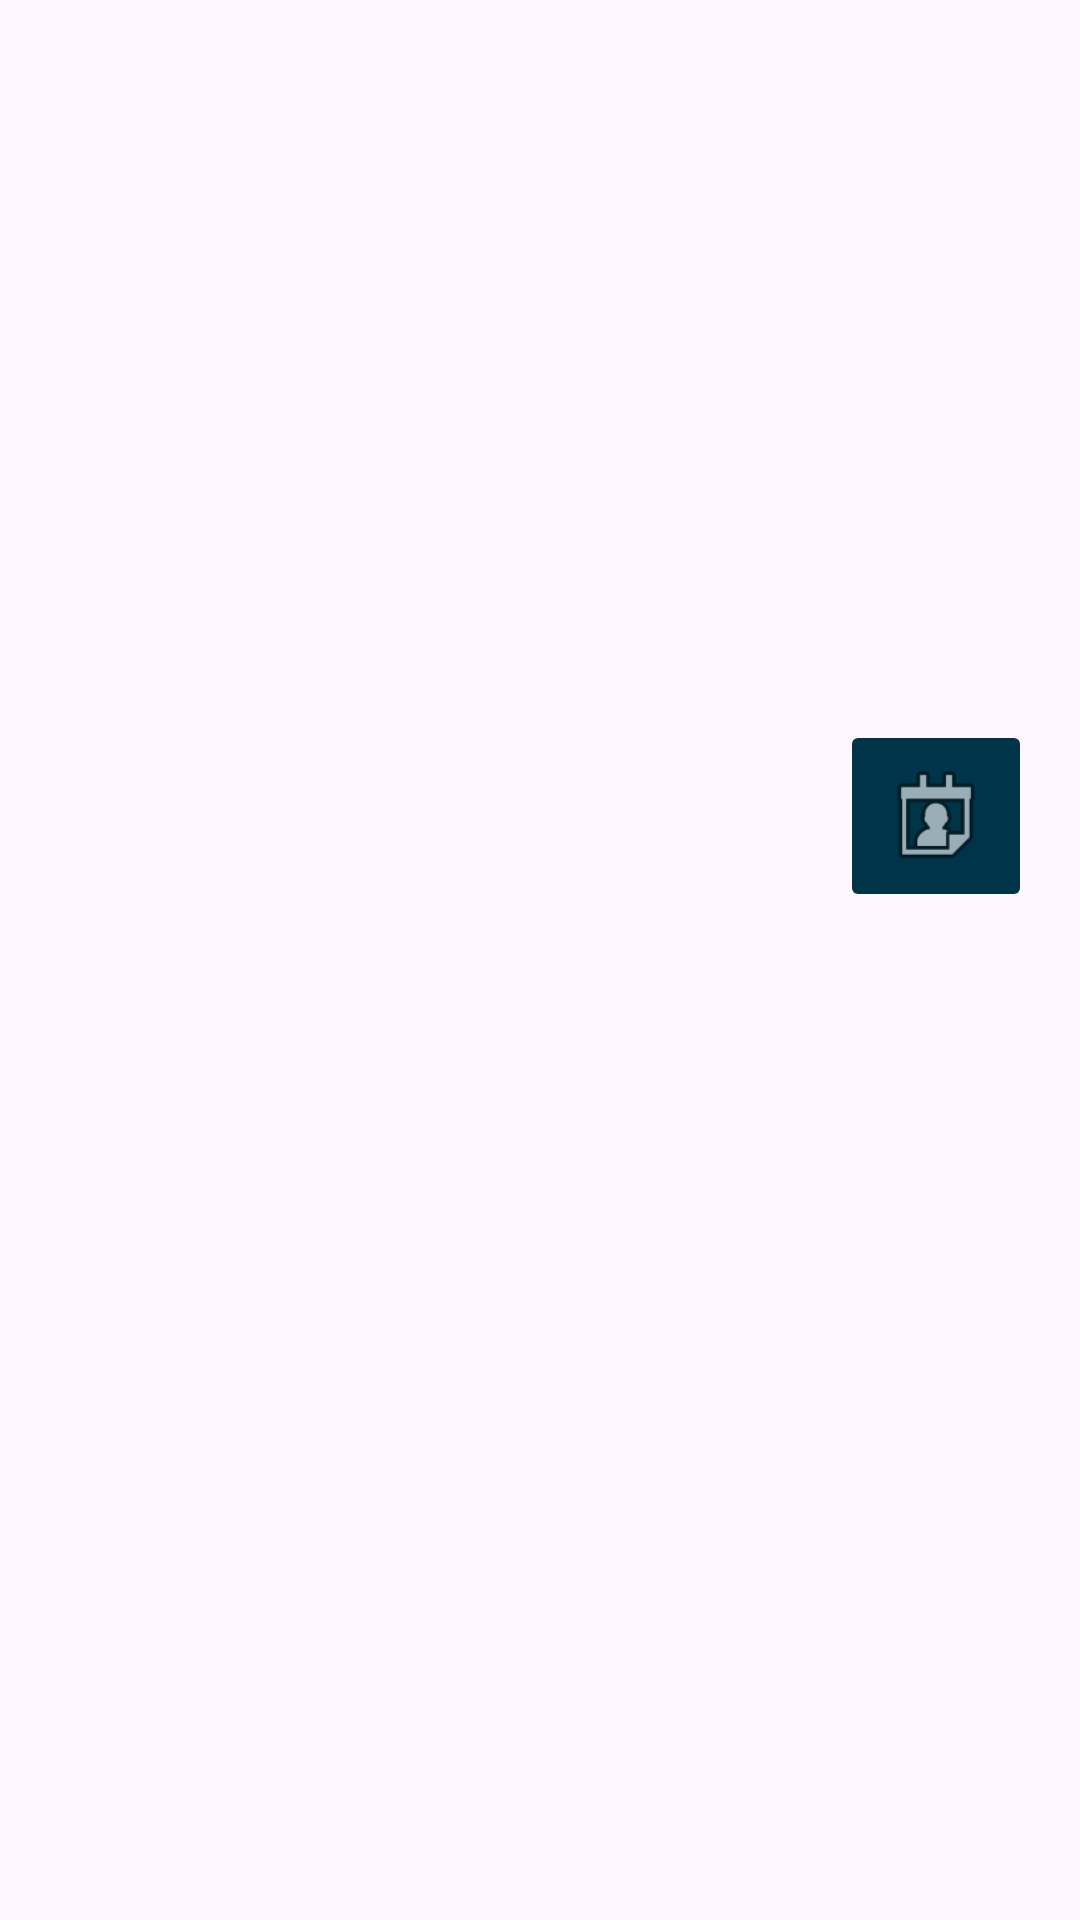

Named icons in this screenshot (1080px x 1920px) and their bounding boxes, (x1, y1, x2, y2):
Asistencia del alumno: (852, 738, 1020, 894)
